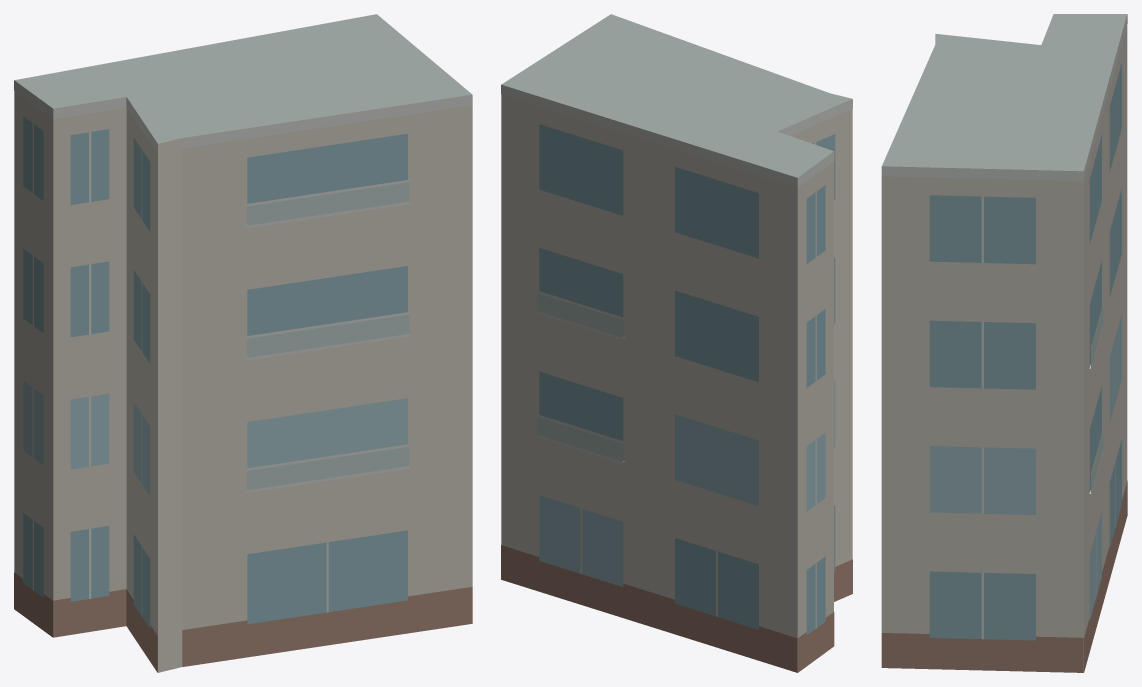
File: survey-upis-32466969.glb
The picture shows the model from 3 angles, left to right: view 1: azimuth 30°, elevation 25°; view 2: azimuth 150°, elevation 25°; view 3: azimuth 270°, elevation 25°; orthographic projection. The views are drawn at different scales.
Parts seen in each view (by area): view 1: survey-upis-32466969.tmp; view 2: survey-upis-32466969.tmp; view 3: survey-upis-32466969.tmp.
Boxes of the visible parts, x1,y1,x2,y2 form: survey-upis-32466969.tmp: (14, 14, 472, 672); survey-upis-32466969.tmp: (501, 14, 852, 672); survey-upis-32466969.tmp: (881, 14, 1127, 672).
Size of the model in its own units: 8.21 by 12.2 by 5.42.
